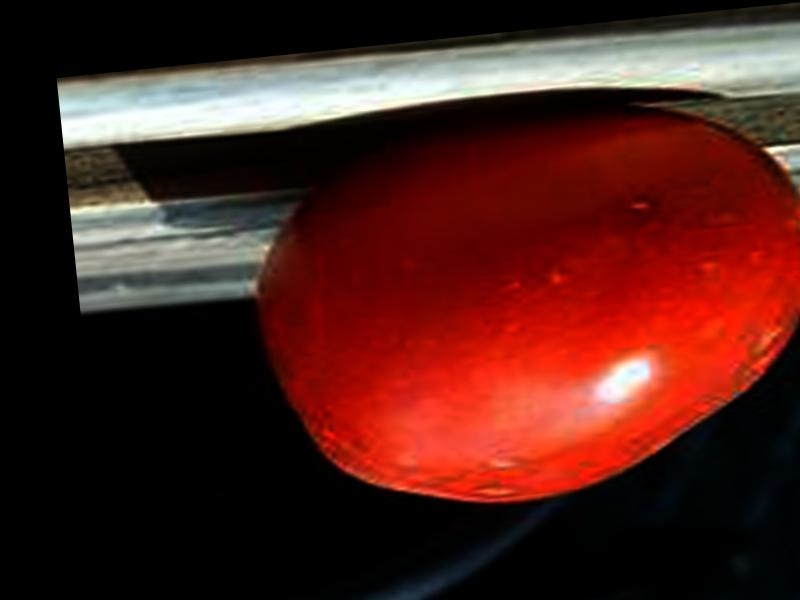Tomato: (243, 87, 800, 526)
